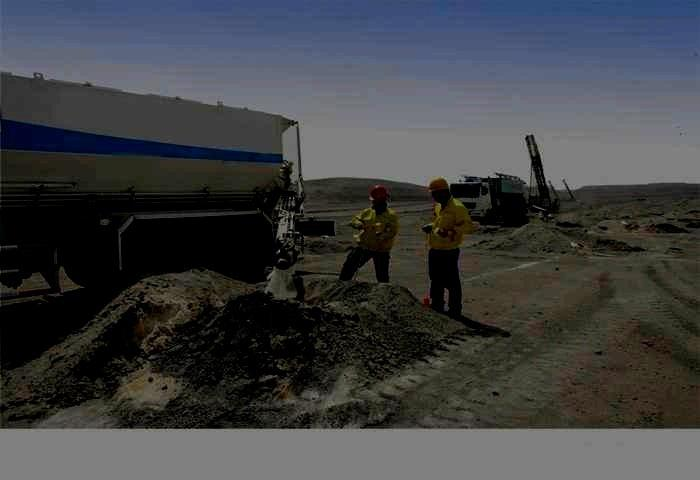helmet: (427, 177, 450, 203), (369, 184, 389, 208)
